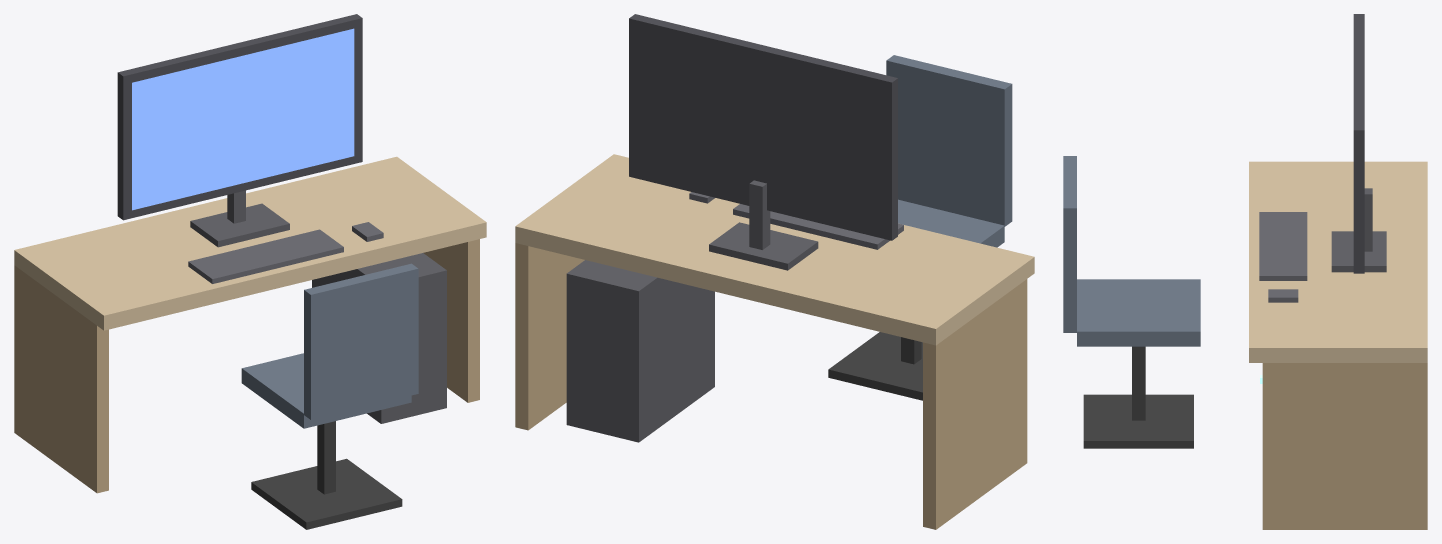
File: desk_computer.glb
3 renders of one model, left to right at view 1: azimuth 30°, elevation 25°; view 2: azimuth 150°, elevation 25°; view 3: azimuth 270°, elevation 25°, orthographic. The views are drawn at different scales.
Parts seen in each view (by area): view 1: desk_01_top, screen_face, desk_02_side_panels, desk_12, desk_08_monitor_frame, desk_04_pc_tower, desk_14, desk_03, desk_09_keyboard, desk_11_chair, desk_06_monitor_stand, desk_13 (+1 smaller); view 2: desk_08_monitor_frame, desk_01_top, desk_04_pc_tower, desk_02_side_panels, desk_12, desk_03, desk_14, desk_06_monitor_stand, desk_11_chair, desk_09_keyboard, desk_07; view 3: desk_01_top, desk_03, desk_11_chair, desk_14, desk_09_keyboard, desk_08_monitor_frame, desk_12, desk_06_monitor_stand, desk_13, desk_07, desk_10_mouse.
Part boxes in pixels (left/top/right/bottom): desk_01_top: left=14, top=156, right=486, bottom=330; screen_face: left=132, top=28, right=354, bottom=210; desk_02_side_panels: left=14, top=265, right=108, bottom=493; desk_12: left=304, top=263, right=418, bottom=419; desk_08_monitor_frame: left=117, top=14, right=362, bottom=220; desk_04_pc_tower: left=312, top=253, right=446, bottom=423; desk_14: left=251, top=458, right=402, bottom=529; desk_03: left=423, top=239, right=479, bottom=402; desk_09_keyboard: left=188, top=229, right=343, bottom=283; desk_11_chair: left=241, top=353, right=411, bottom=428; desk_06_monitor_stand: left=190, top=203, right=289, bottom=247; desk_13: left=317, top=421, right=335, bottom=494; desk_08_monitor_frame: left=629, top=14, right=897, bottom=240; desk_01_top: left=515, top=154, right=1034, bottom=345; desk_04_pc_tower: left=566, top=260, right=714, bottom=442; desk_02_side_panels: left=923, top=279, right=1027, bottom=529; desk_12: left=886, top=55, right=1012, bottom=226; desk_03: left=515, top=243, right=584, bottom=430; desk_14: left=828, top=332, right=922, bottom=400; desk_06_monitor_stand: left=709, top=222, right=818, bottom=270; desk_11_chair: left=898, top=199, right=1004, bottom=247; desk_09_keyboard: left=733, top=204, right=903, bottom=249; desk_07: left=749, top=180, right=770, bottom=249; desk_01_top: left=1249, top=161, right=1427, bottom=362; desk_03: left=1262, top=363, right=1427, bottom=529; desk_11_chair: left=1077, top=279, right=1200, bottom=346; desk_14: left=1083, top=394, right=1193, bottom=448; desk_09_keyboard: left=1259, top=212, right=1307, bottom=280; desk_08_monitor_frame: left=1353, top=14, right=1364, bottom=273; desk_12: left=1063, top=156, right=1076, bottom=332; desk_06_monitor_stand: left=1331, top=231, right=1386, bottom=272; desk_13: left=1132, top=346, right=1145, bottom=420; desk_07: left=1364, top=188, right=1372, bottom=251; desk_10_mouse: left=1268, top=289, right=1298, bottom=302.
Size of the model in its own units: 3.2 by 2.93 by 2.65.
